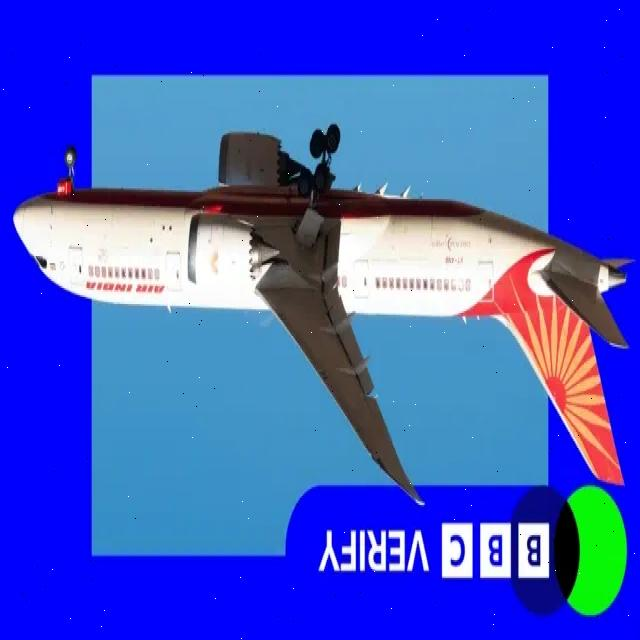aircraft: (0, 88, 630, 546)
